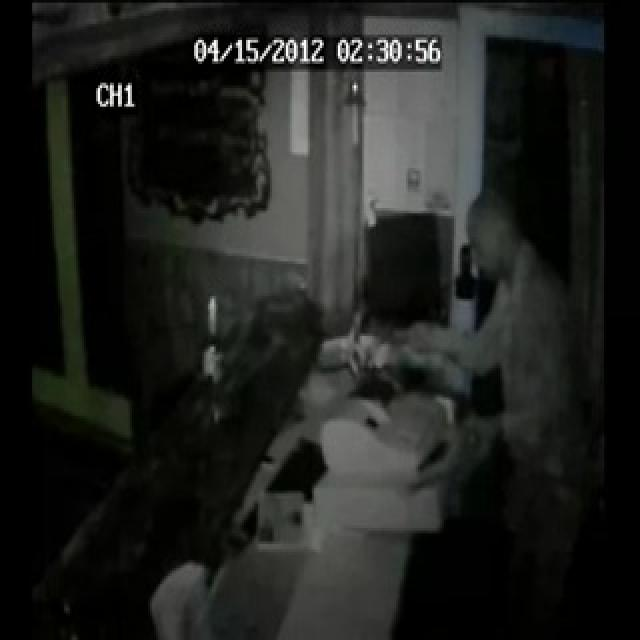thief: (461, 167, 544, 331)
